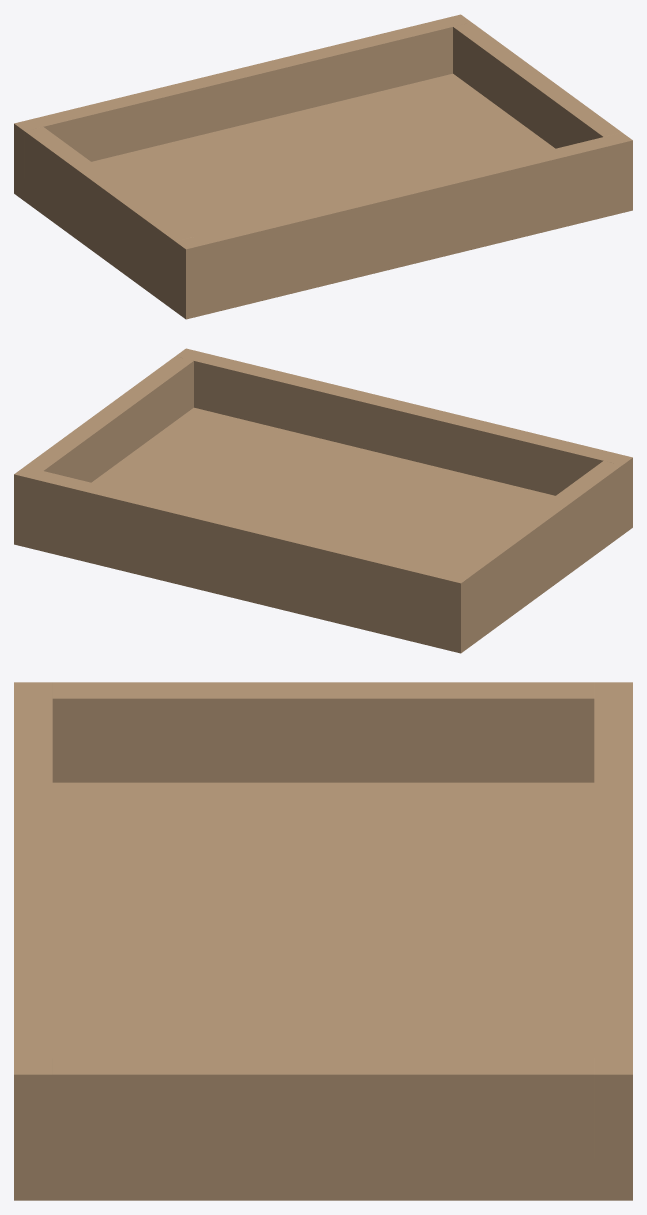
The model's file is p2s_desk_tray_oak.glb.
3 views of the same model, one above another, from view 1: azimuth 30°, elevation 25°; view 2: azimuth 150°, elevation 25°; view 3: azimuth 270°, elevation 25° (orthographic). The views are drawn at different scales.
Parts seen in each view (by area): view 1: TrayBase, TrayWallFront, TrayWallBack, TrayWallLeft, TrayWallRight; view 2: TrayBase, TrayWallBack, TrayWallFront, TrayWallLeft, TrayWallRight; view 3: TrayBase, TrayWallRight, TrayWallLeft, TrayWallBack, TrayWallFront.
Part boxes in pixels (box(x1,y1,x2,y2)): TrayBase: box(14, 73, 555, 319); TrayWallFront: box(175, 132, 632, 319); TrayWallBack: box(14, 14, 470, 199); TrayWallLeft: box(24, 127, 193, 308); TrayWallRight: box(453, 22, 621, 148); TrayBase: box(91, 407, 625, 653); TrayWallBack: box(14, 466, 471, 653); TrayWallFront: box(176, 348, 632, 532); TrayWallLeft: box(453, 461, 622, 645); TrayWallRight: box(25, 356, 193, 482); TrayBase: box(14, 782, 632, 1200); TrayWallRight: box(52, 1058, 594, 1200); TrayWallLeft: box(52, 682, 594, 782); TrayWallBack: box(594, 682, 632, 1200); TrayWallFront: box(14, 682, 52, 1200).
Bounding box in the file's own units: 0.24 × 0.036 × 0.16.
